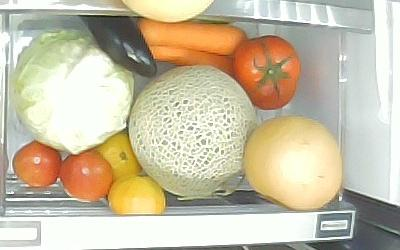cabbage: (13, 28, 133, 153)
carrot: (139, 20, 247, 55), (149, 45, 234, 79)
eggplant: (87, 16, 161, 77)
melon: (129, 65, 258, 201)
pear: (245, 115, 344, 210)
prune: (60, 148, 114, 204), (12, 140, 61, 187)
tangerine: (108, 175, 166, 214), (97, 133, 145, 179)
tomato: (234, 34, 301, 110)
